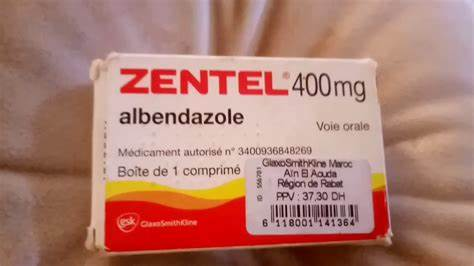Medicine: (86, 43, 395, 262)
